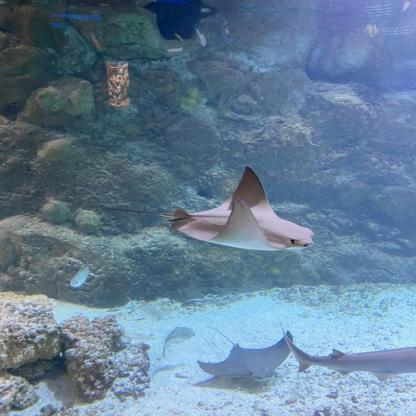fish: (163, 327, 196, 358), (127, 297, 164, 322), (70, 265, 91, 287)
shark: (279, 320, 416, 383)
stingray: (172, 166, 316, 251), (197, 331, 294, 381)
